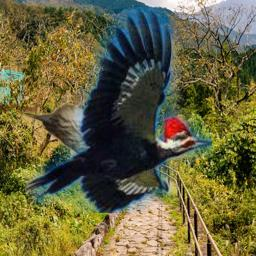Sparrow: (22, 90, 103, 161)
Woodpecker: (25, 7, 212, 213)
